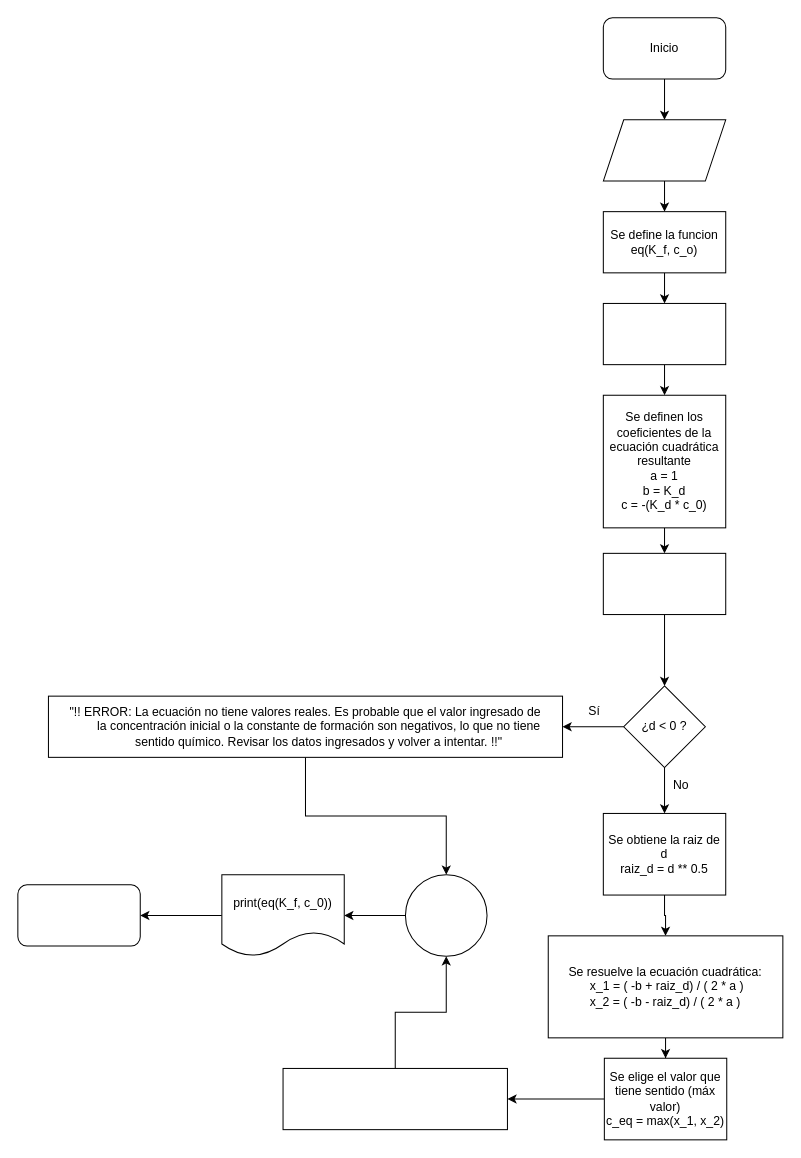
The diagram is 801 pixels wide and 1158 high, and some of its shapes have lost their labels. Here are the shapes that lost their labels. From the top down, the centre of each, then its label:
point 664,150: K_f <- input c_0 <- input
point 664,333: Se define K_d = K_f ** -1
point 664,583: Se obtiene el discriminante d = b ** 2 - ( 4 * a * c)
point 78,915: Fin
point 394,1098: "La concentración del ión cadmio (II) en el equilibrio es de {c_eq} mol/L"
